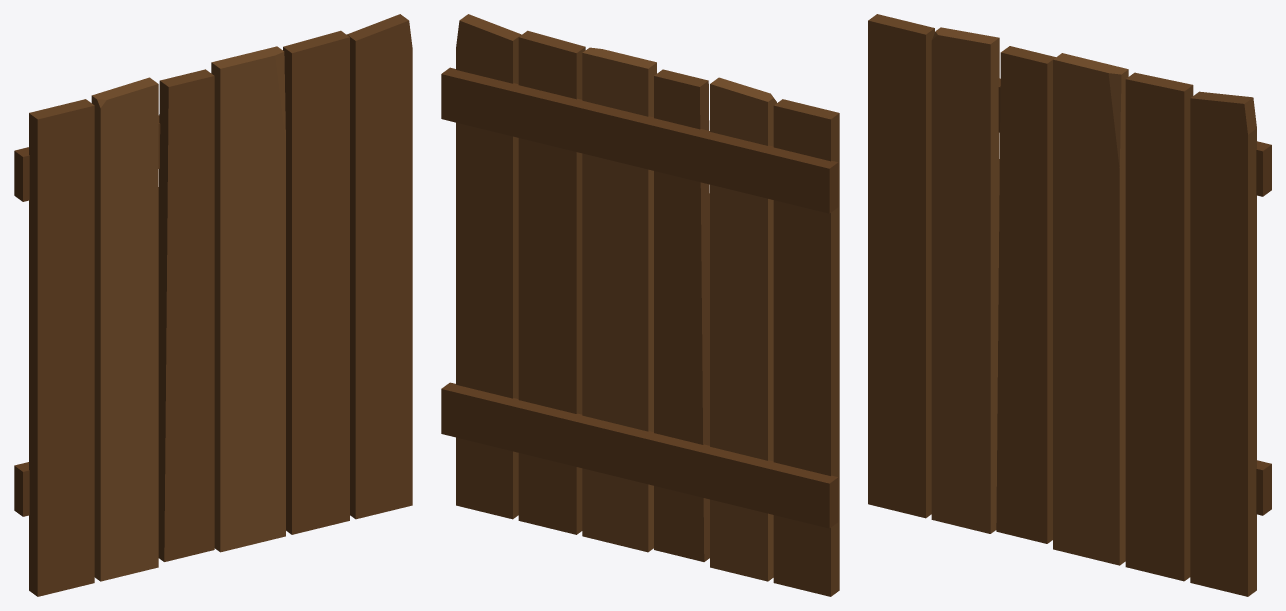
Rendered from SM_Props_Fence_01.glb.
3 views of the same model, side by side, from view 1: azimuth 30°, elevation 25°; view 2: azimuth 150°, elevation 25°; view 3: azimuth 330°, elevation 25° (orthographic).
Parts seen in each view (by area): view 1: SM_Props_Fence_01; view 2: SM_Props_Fence_01; view 3: SM_Props_Fence_01.
Part boxes in pixels (x1,y1,x2,y2): SM_Props_Fence_01: [14, 14, 412, 596]; SM_Props_Fence_01: [441, 14, 839, 596]; SM_Props_Fence_01: [868, 14, 1271, 596].
Bounding box in the file's own units: 1.02 × 1.22 × 0.0766.
Materials: 1 (1 with a texture image).
